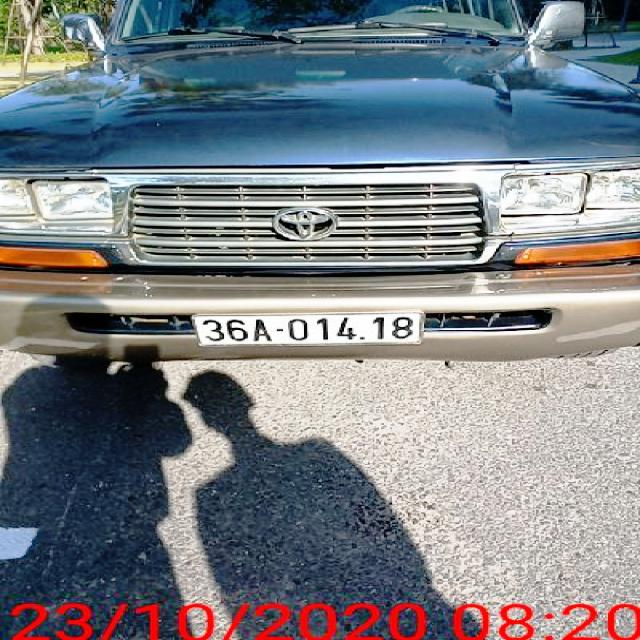license_plate: (194, 314, 423, 345)
